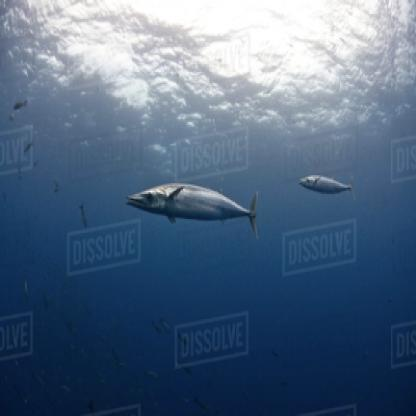tuna: (125, 183, 261, 244), (298, 171, 359, 203)
